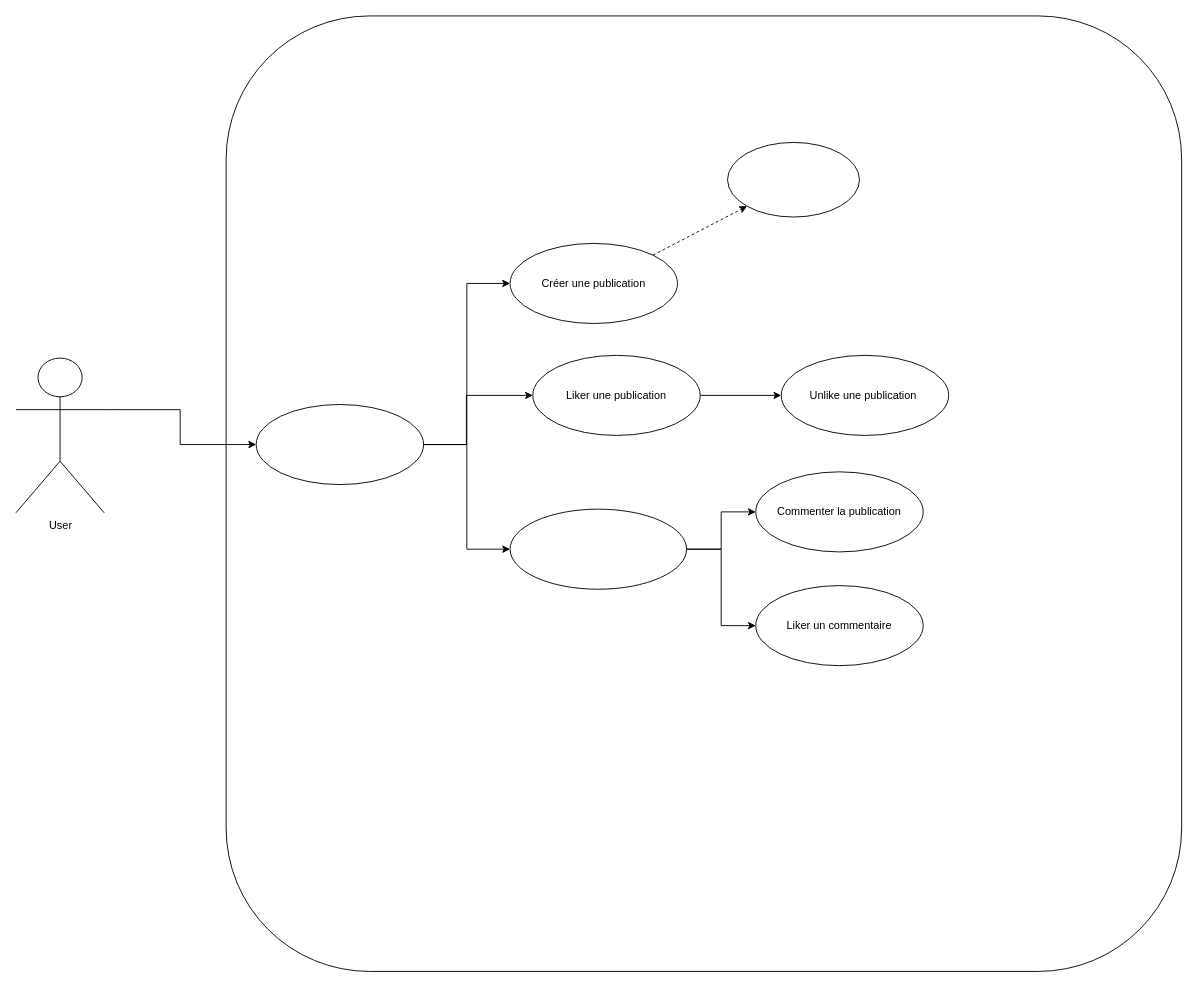
The diagram is 1198 pixels wide and 987 high, and some of its shapes have lost their labels. Here are the shapes that lost their labels. From the top down, the centre of each, then its label:
At [793,179]: "Ajouter des images".
At [339,444]: "Home Consulter les derniers Publications Public".
At [598,548]: "Consulter les commentaires d'une publication".
